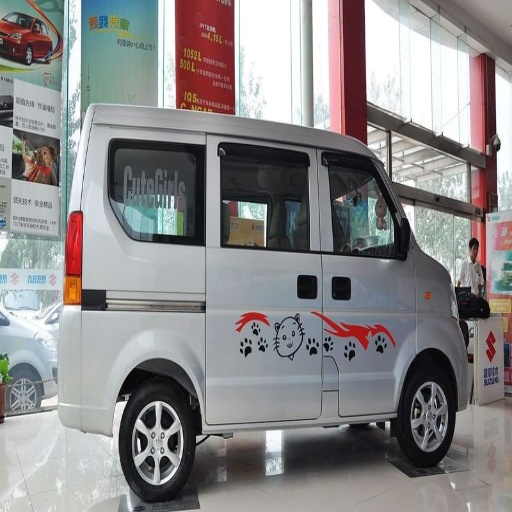trunk: (61, 289, 233, 432)
